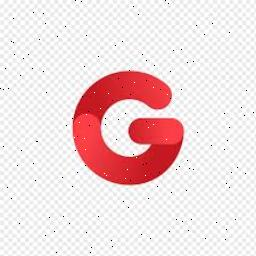g: (68, 64, 184, 196)
